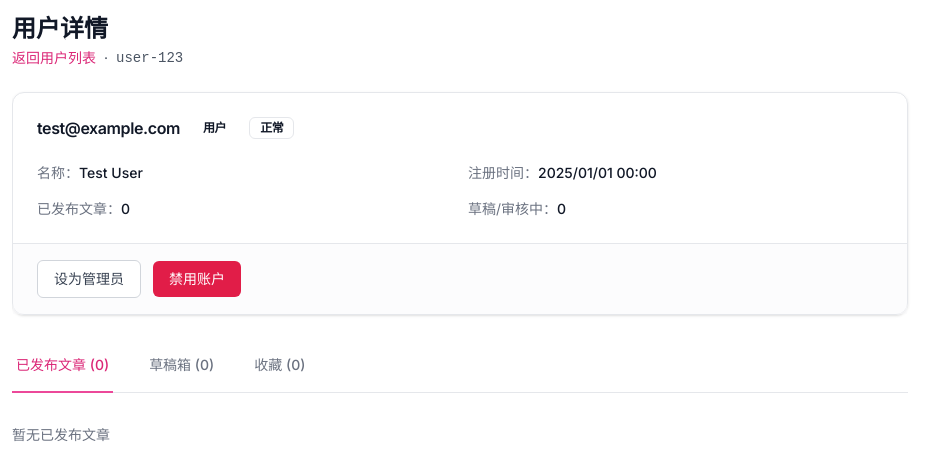
Test: admin user detail page › can toggle admin status
This screenshot has width=925, height=459.
Click the button "设为管理员": x=89, y=279 top-left (37, 260), bottom-right (141, 298)
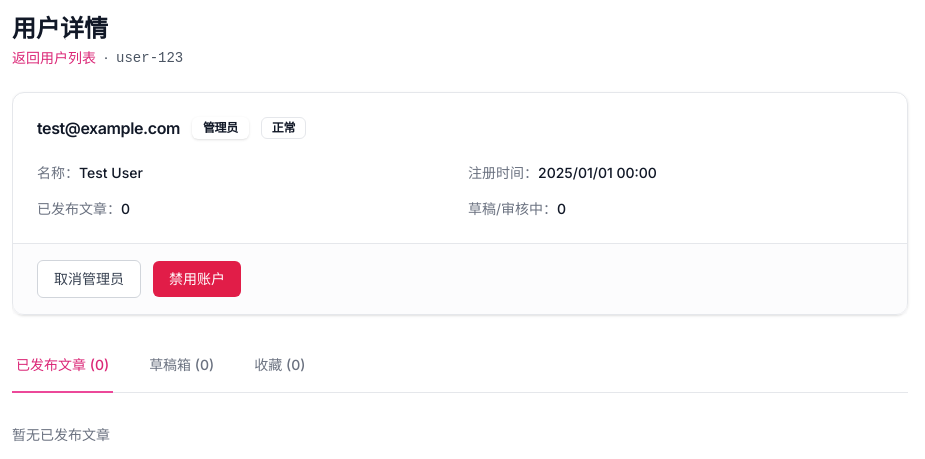
Now the button "取消管理员" is shown, box top-left (37, 260), bottom-right (141, 298)
